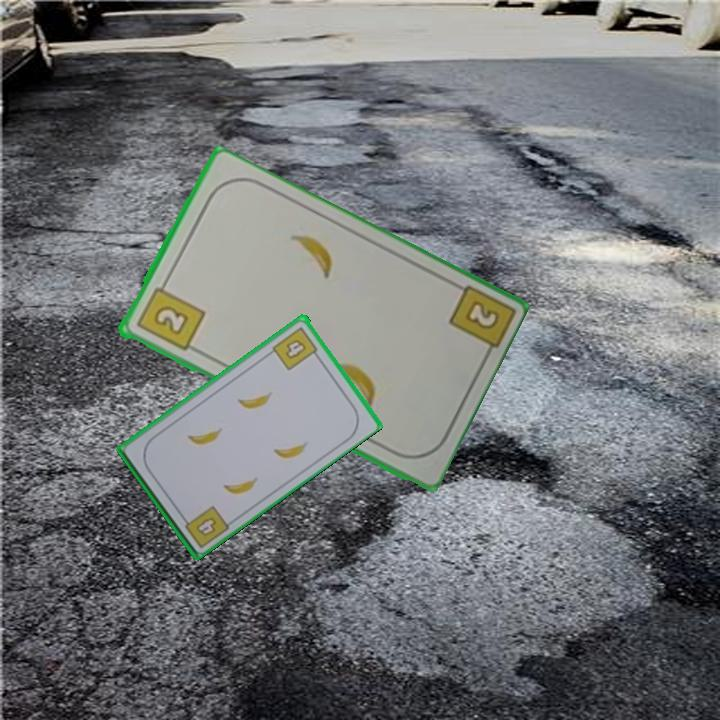2b: (132, 276, 207, 354), (460, 297, 502, 333)
4b: (269, 323, 323, 373), (192, 513, 219, 539)
